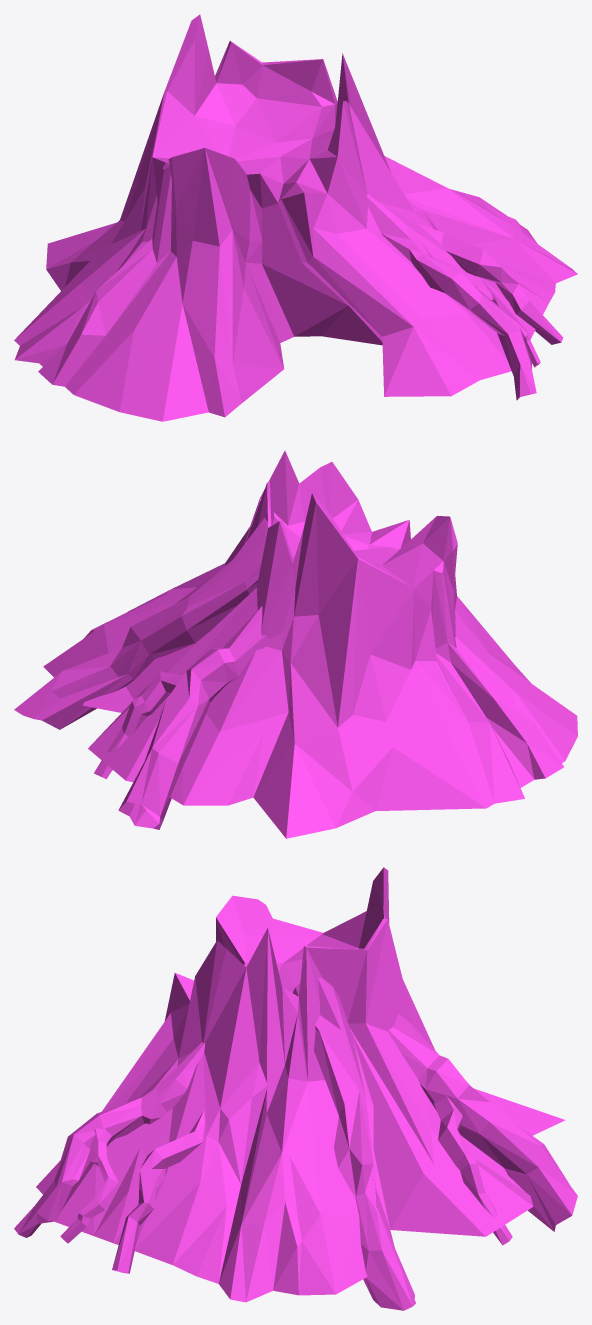
The model's file is SM_Tree_Swamp_Stump_A_Fantasy.fbx.
3 views of the same model, one above another, from view 1: azimuth 30°, elevation 25°; view 2: azimuth 150°, elevation 25°; view 3: azimuth 270°, elevation 25° (orthographic). The views are drawn at different scales.
Parts seen in each view (by area): view 1: SM_Tree_Swamp_Stump_A_Fantasy; view 2: SM_Tree_Swamp_Stump_A_Fantasy; view 3: SM_Tree_Swamp_Stump_A_Fantasy.
Boxes of the visible parts, x1,y1,x2,y2 form: SM_Tree_Swamp_Stump_A_Fantasy: (14, 14, 577, 421); SM_Tree_Swamp_Stump_A_Fantasy: (14, 450, 577, 838); SM_Tree_Swamp_Stump_A_Fantasy: (14, 867, 577, 1310).
Size of the model in its own units: 5 by 2.9 by 4.71.
